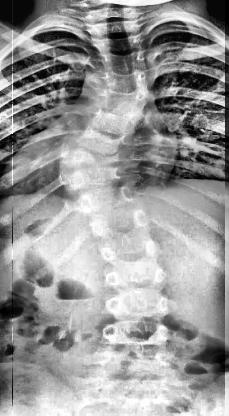Vertebrae: (102, 322, 171, 350), (108, 291, 174, 318), (100, 265, 173, 289), (98, 235, 160, 262), (92, 208, 148, 235), (82, 187, 134, 215), (89, 113, 137, 136), (104, 51, 149, 74), (78, 131, 120, 155), (65, 149, 115, 169), (100, 96, 154, 114), (63, 172, 117, 190), (103, 72, 151, 92), (90, 21, 140, 39), (83, 8, 137, 24), (98, 36, 144, 54)
